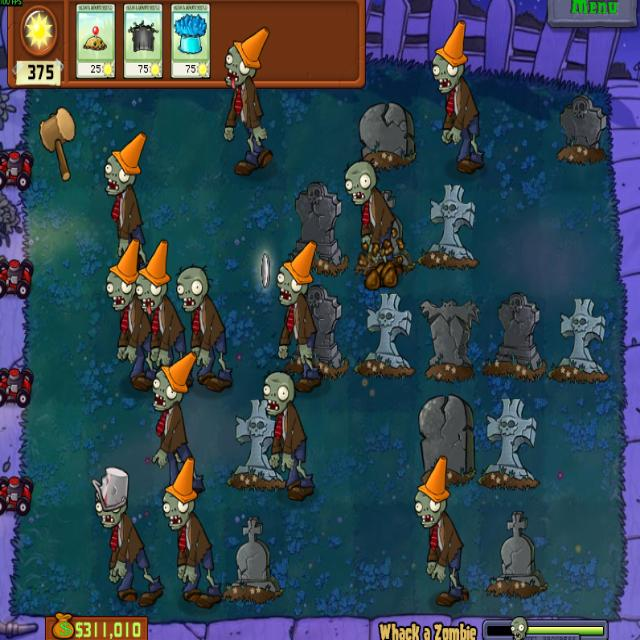conehead: (100, 131, 148, 196), (274, 238, 318, 308), (223, 25, 270, 89), (412, 451, 450, 530), (430, 20, 469, 96), (150, 351, 198, 412), (136, 237, 171, 312), (161, 457, 196, 532), (106, 239, 140, 311)
damaged_buckethead: (92, 467, 128, 531)
grave: (282, 181, 349, 275), (477, 396, 541, 491), (286, 282, 348, 378), (220, 512, 284, 603), (227, 396, 286, 493), (419, 294, 480, 387), (548, 297, 610, 386), (354, 290, 414, 381), (417, 394, 475, 487), (487, 511, 549, 597), (417, 182, 477, 270), (484, 293, 542, 382), (359, 189, 415, 274), (355, 101, 416, 170), (555, 94, 609, 166)
gravebuster: (122, 3, 164, 80)
zombie: (174, 263, 213, 315), (342, 159, 378, 207), (260, 372, 297, 416)
